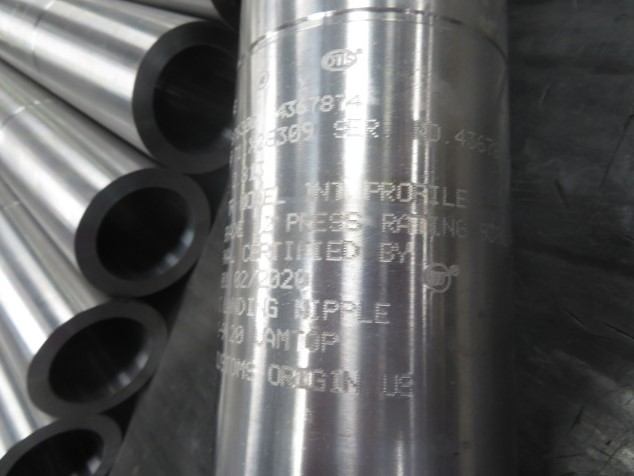character: (397, 367, 416, 403), (342, 237, 364, 266), (342, 369, 363, 398), (355, 297, 373, 330), (373, 298, 394, 326), (319, 329, 339, 357), (339, 299, 357, 328), (322, 298, 341, 325), (362, 178, 381, 205), (290, 296, 309, 323), (274, 327, 291, 357), (393, 242, 417, 263), (396, 178, 414, 206), (323, 237, 342, 263), (395, 212, 413, 239), (383, 372, 399, 401), (312, 181, 332, 204), (311, 366, 328, 393), (414, 181, 431, 208), (381, 209, 396, 239), (455, 187, 472, 213), (281, 364, 296, 393), (330, 366, 344, 396), (441, 184, 456, 212), (267, 360, 281, 390), (294, 268, 313, 290), (363, 117, 382, 139), (284, 212, 300, 238), (292, 326, 307, 353), (378, 240, 394, 265), (328, 211, 347, 232), (331, 180, 350, 201), (346, 210, 363, 233), (427, 119, 442, 145), (297, 364, 310, 393), (379, 180, 395, 203), (312, 210, 328, 233), (309, 297, 323, 323), (299, 211, 314, 235), (442, 217, 457, 241), (414, 119, 428, 144), (346, 115, 361, 138), (455, 217, 470, 240), (305, 330, 321, 351), (280, 268, 295, 290), (283, 238, 296, 263), (429, 183, 442, 207), (311, 239, 324, 263), (332, 116, 345, 140), (453, 124, 466, 148), (295, 240, 309, 262), (348, 94, 365, 112), (334, 92, 348, 113), (321, 94, 332, 114)
